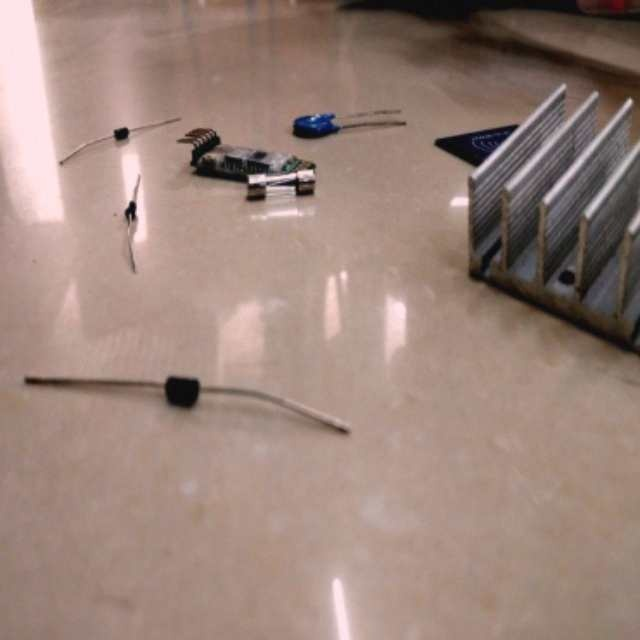capacitor: (293, 114, 335, 139)
